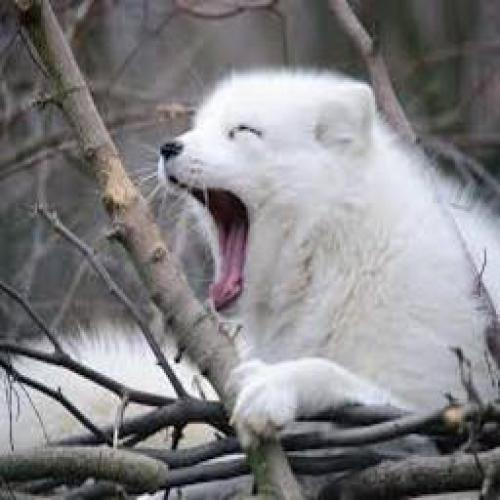arctic_fox-endangered: (160, 69, 491, 443)
